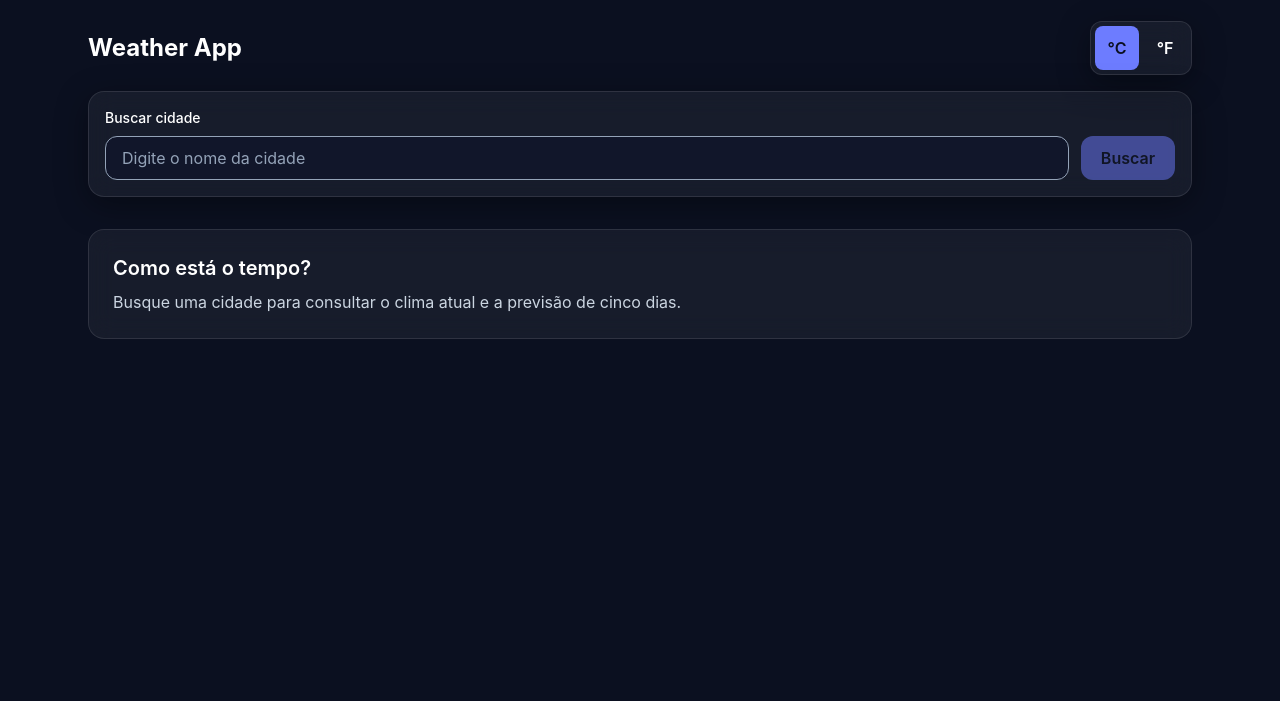
Scenario: mostra erro transitório e repete somente o forecast mantendo o foco
Type "São Paulo" into the search field at (587, 158), box top-left (105, 136), bottom-right (1069, 180)
Then press Enter
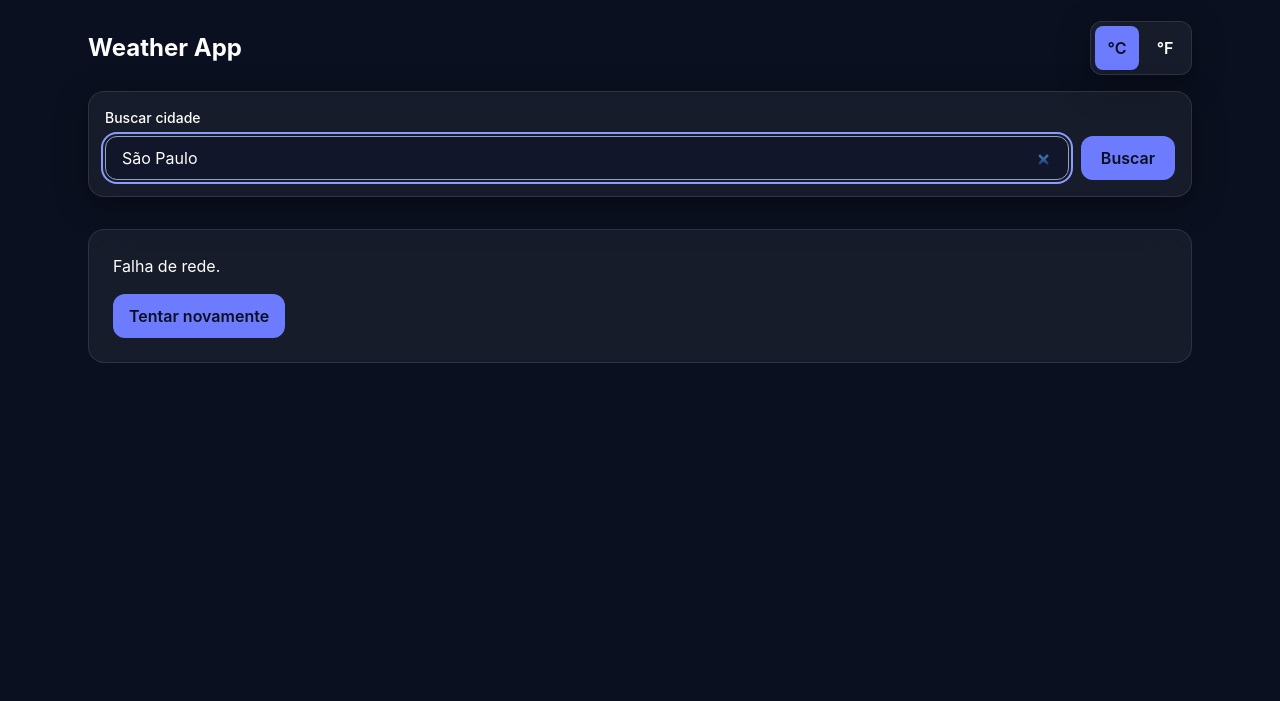
expect the message reads "Falha de rede.": met, box top-left (113, 256), bottom-right (220, 276)
Click the button "Tentar novamente" at (199, 316), box top-left (113, 294), bottom-right (285, 338)
(page scrolled)
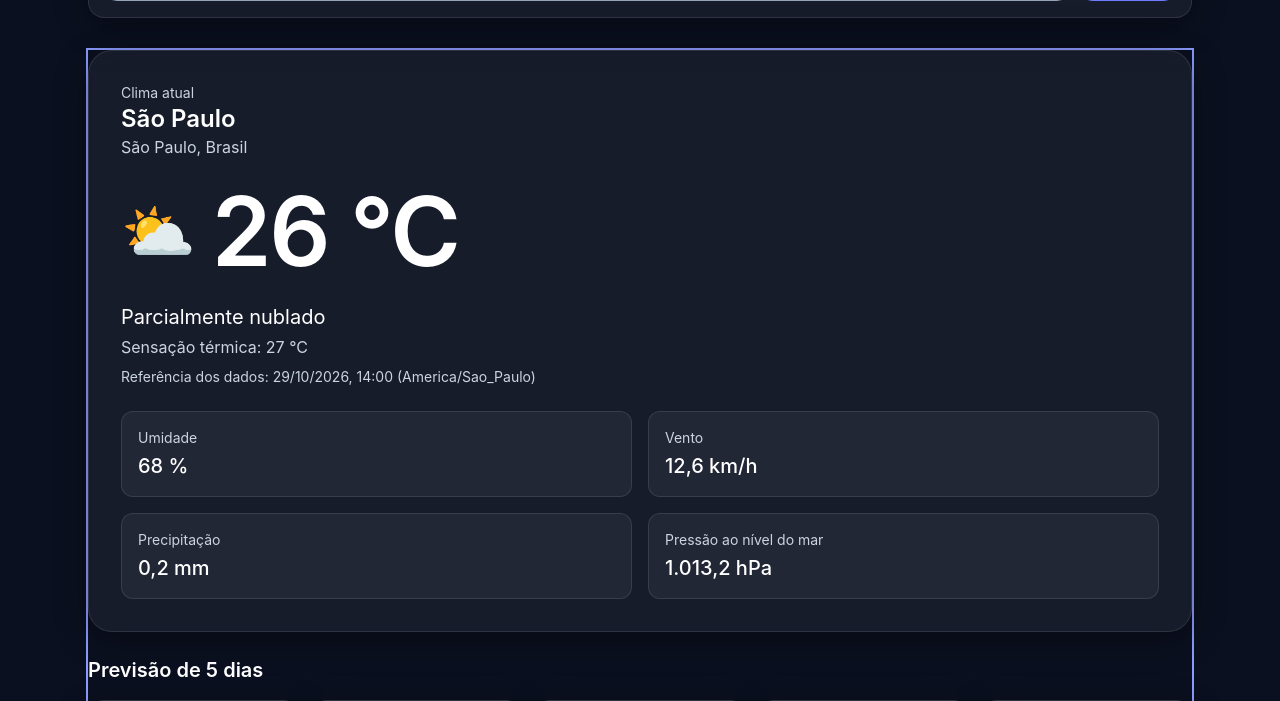
expect the element "São Paulo" is shown: met
